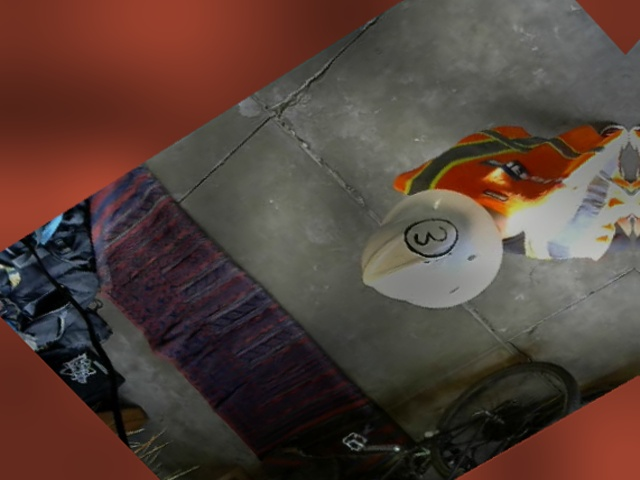three: (394, 207, 467, 265)
